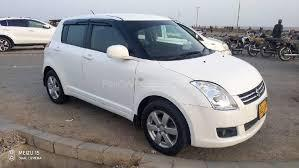Hatchback: (41, 11, 273, 155), (0, 17, 58, 52)
